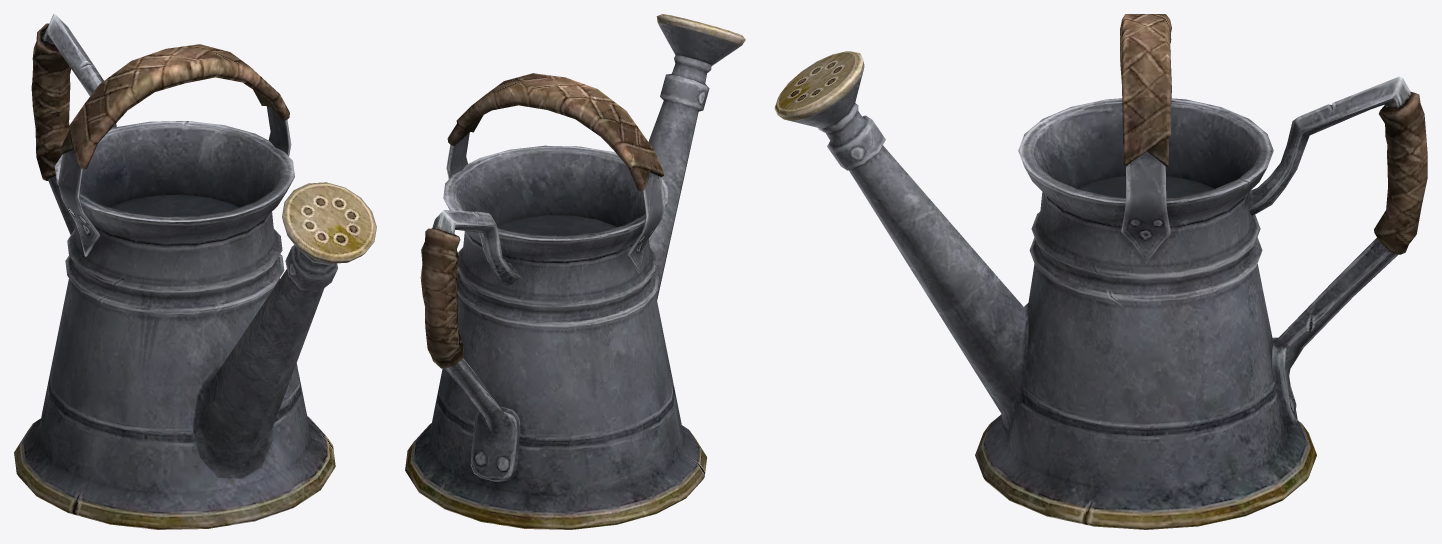
3 views of the same model, side by side, from view 1: azimuth 30°, elevation 25°; view 2: azimuth 150°, elevation 25°; view 3: azimuth 270°, elevation 25° (orthographic). The views are drawn at different scales.
Visible parts, largest first — view 1: SM_WateringCan_Steel_2H_01_LOD0; view 2: SM_WateringCan_Steel_2H_01_LOD0; view 3: SM_WateringCan_Steel_2H_01_LOD0.
Boxes of the visible parts, x1,y1,x2,y2 form: SM_WateringCan_Steel_2H_01_LOD0: (14,14,376,529); SM_WateringCan_Steel_2H_01_LOD0: (405,14,745,529); SM_WateringCan_Steel_2H_01_LOD0: (774,14,1427,529).
Bounding box in the file's own units: 0.3543 × 0.4928 × 0.6763.
1 material, 1 textured.
